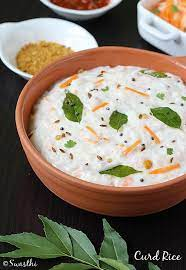curd_rice: (20, 45, 186, 198)
